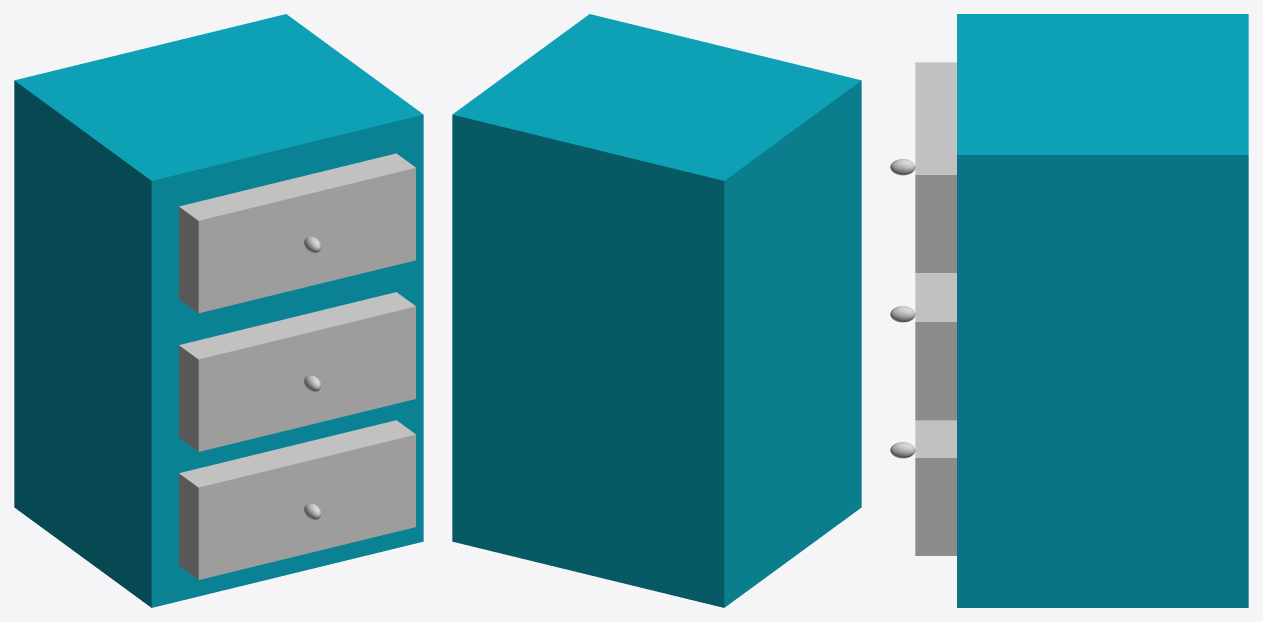
File: Mighty Tumelo.glb
3 views of the same model, side by side, from view 1: azimuth 30°, elevation 25°; view 2: azimuth 150°, elevation 25°; view 3: azimuth 270°, elevation 25° (orthographic). The views are drawn at different scales.
Visible parts, largest first — view 1: Mesh_Mesh_head_geo.001_lambert2SG.001; view 2: Mesh_Mesh_head_geo.001_lambert2SG.001; view 3: Mesh_Mesh_head_geo.001_lambert2SG.001.
Part boxes in pixels (x1=…): Mesh_Mesh_head_geo.001_lambert2SG.001: x1=14, y1=14, x2=423, y2=607; Mesh_Mesh_head_geo.001_lambert2SG.001: x1=452, y1=14, x2=861, y2=607; Mesh_Mesh_head_geo.001_lambert2SG.001: x1=890, y1=14, x2=1248, y2=607.
Bounding box in the file's own units: 40 × 60 × 43.
